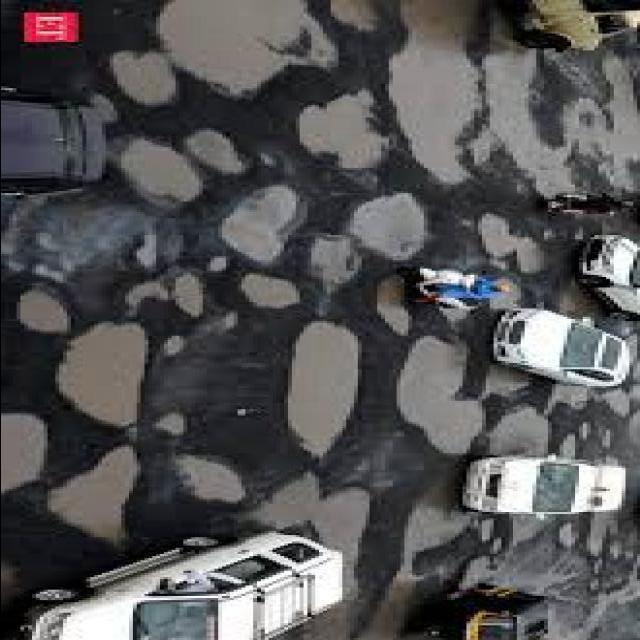pothole: (384, 0, 640, 195), (151, 0, 330, 92), (283, 321, 361, 468), (396, 336, 481, 455), (54, 323, 144, 426), (47, 447, 136, 541), (217, 183, 303, 262), (120, 145, 198, 199)
